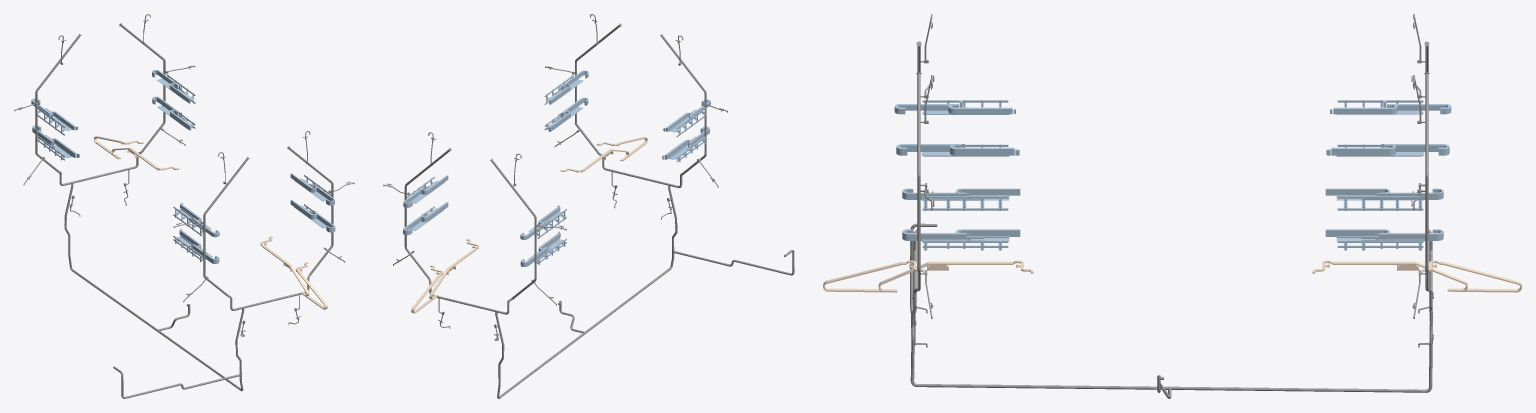
File: Serv-Muon-SW.glb
The picture shows the model from 3 angles, left to right: view 1: azimuth 30°, elevation 25°; view 2: azimuth 150°, elevation 25°; view 3: azimuth 270°, elevation 25°; orthographic projection. The views are drawn at different scales.
Parts seen in each view (by area): view 1: Cabbles 1, Cabbles 3, Cabbles 2; view 2: Cabbles 1, Cabbles 3, Cabbles 2; view 3: Cabbles 3, Cabbles 1, Cabbles 2.
Part boxes in pixels (x1,y1,x2,y2): Cabbles 1: (14, 14, 354, 398); Cabbles 3: (31, 70, 335, 263); Cabbles 2: (94, 136, 327, 309); Cabbles 1: (383, 14, 794, 398); Cabbles 3: (403, 70, 710, 266); Cabbles 2: (411, 137, 647, 313); Cabbles 3: (894, 100, 1451, 250); Cabbles 1: (910, 14, 1433, 398); Cabbles 2: (823, 260, 1521, 292).
Size of the model in its own units: 20.95 by 20.28 by 35.
